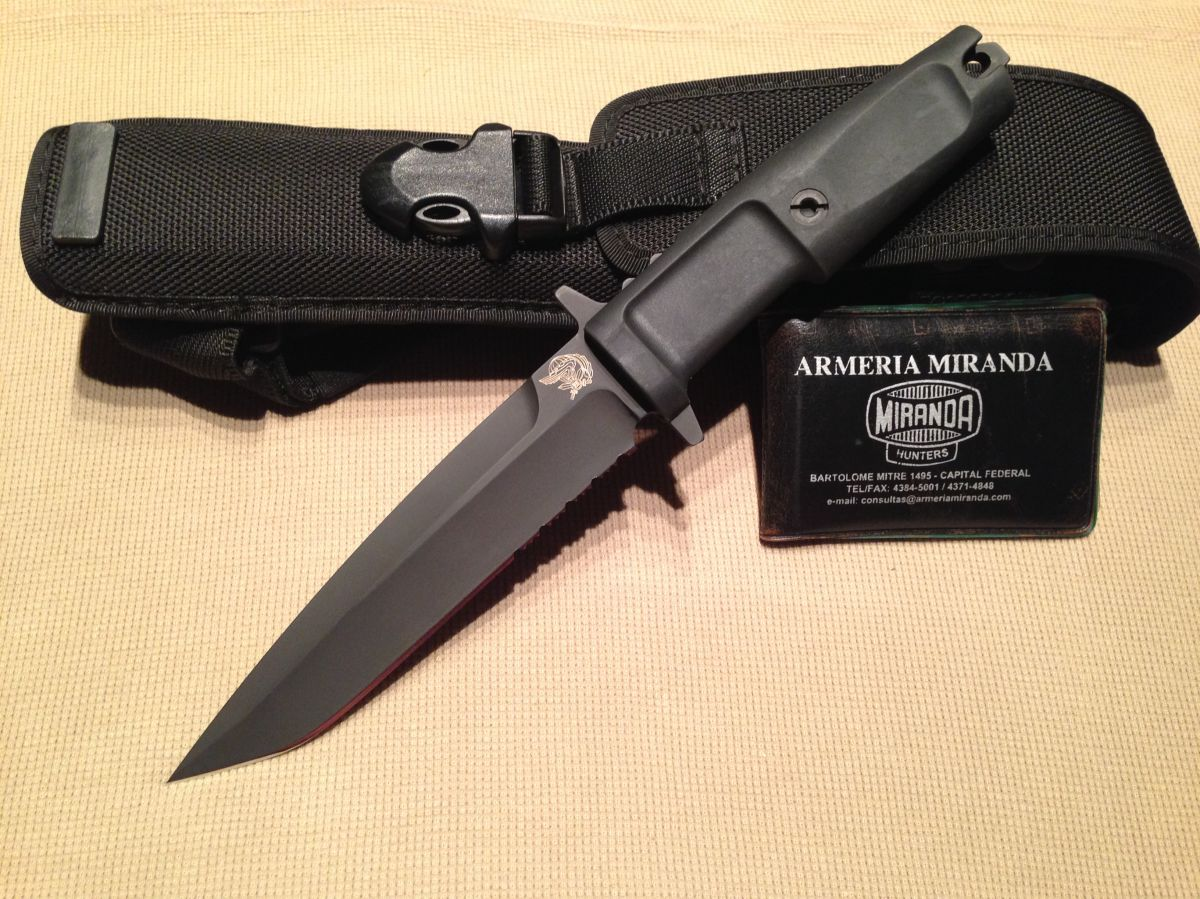knife: (158, 333, 664, 801)
